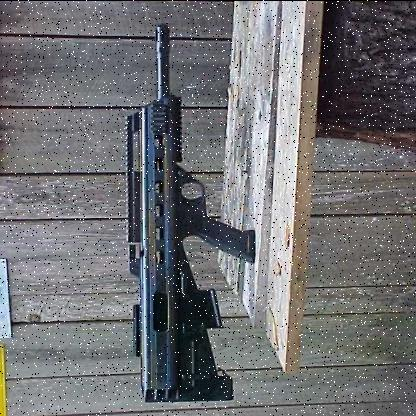rifle: (115, 21, 276, 410)
